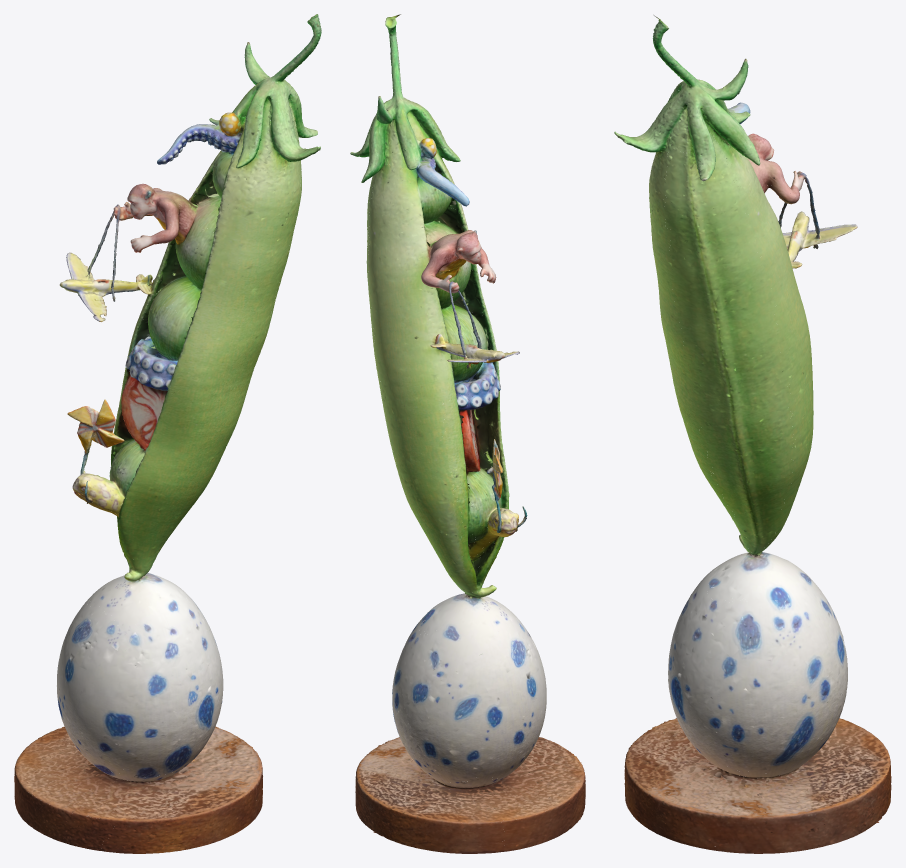
Rendered from sugandh-matar.glb.
3 views of the same model, side by side, from view 1: azimuth 30°, elevation 25°; view 2: azimuth 150°, elevation 25°; view 3: azimuth 270°, elevation 25° (orthographic). The views are drawn at different scales.
Visible parts, largest first — view 1: eggshellwithBeans_001.001, eggshellwithBeans_001.002; view 2: eggshellwithBeans_001.001, eggshellwithBeans_001.002; view 3: eggshellwithBeans_001.001, eggshellwithBeans_001.002.
Part boxes in pixels (box(x1,y1,x2,y2)): eggshellwithBeans_001.001: box(15, 14, 321, 853); eggshellwithBeans_001.002: box(14, 15, 321, 850); eggshellwithBeans_001.001: box(350, 14, 584, 853); eggshellwithBeans_001.002: box(350, 20, 585, 851); eggshellwithBeans_001.001: box(614, 15, 891, 853); eggshellwithBeans_001.002: box(652, 19, 857, 779).
Size of the model in its own units: 13.44 by 38.67 by 11.44.
Materials: 2 (2 with a texture image).
